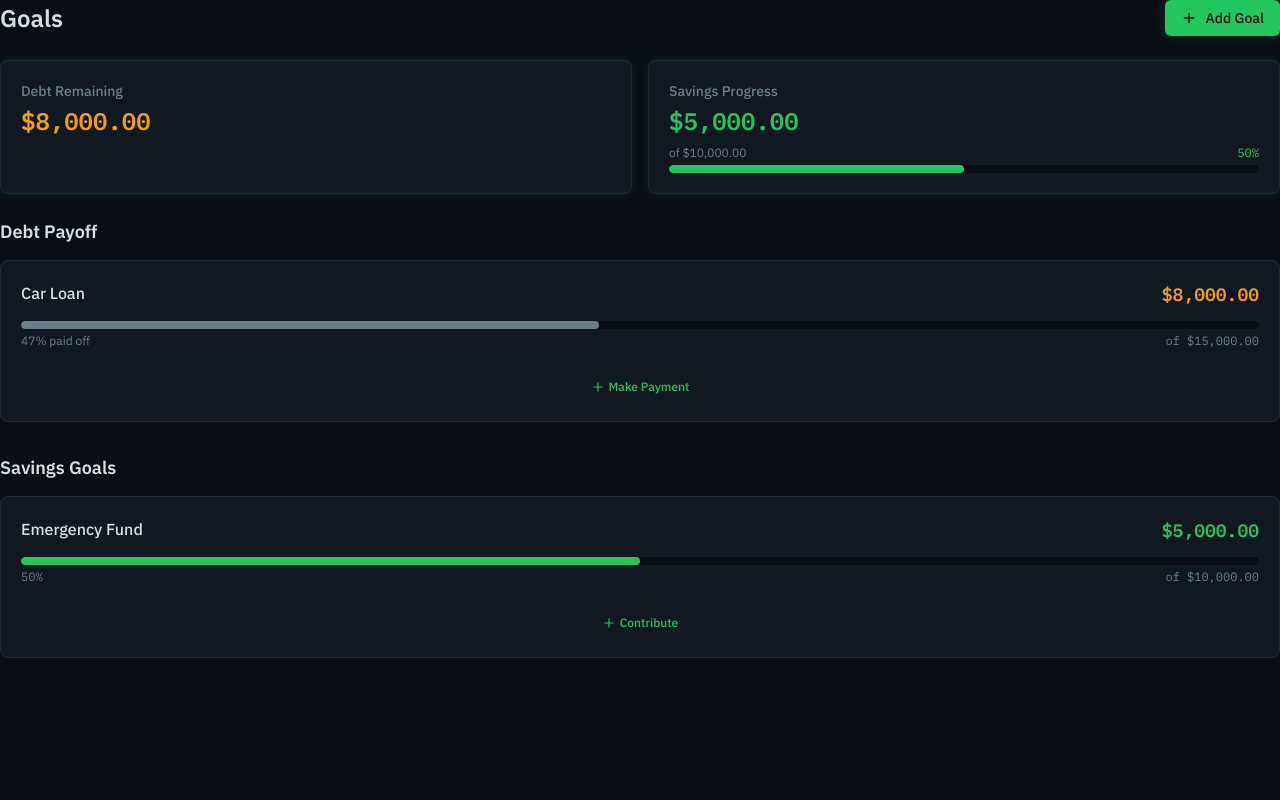
it: Goals › shows delete button in edit modal and closes on delete
This screenshot has width=1280, height=800.
Click the text "Emergency Fund": [82, 529] box top-left (21, 517), bottom-right (143, 541)
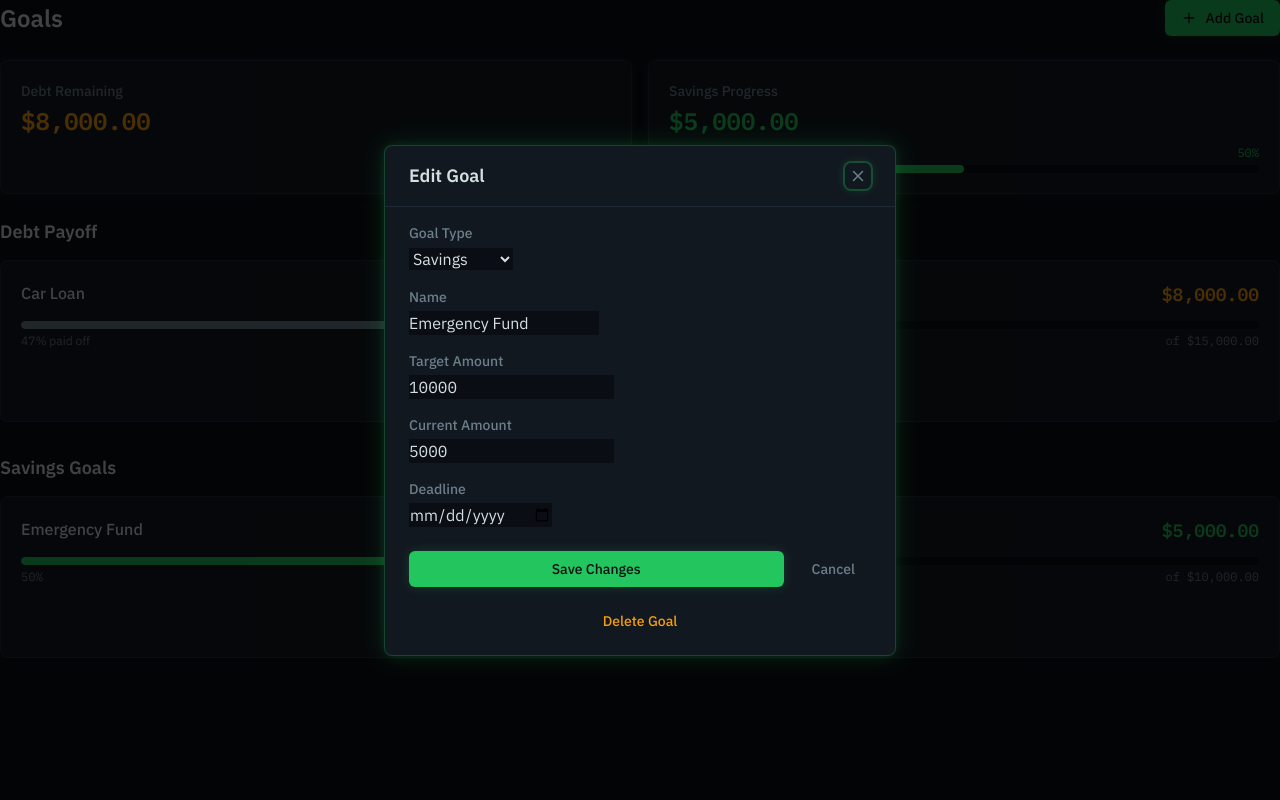
Now the button "Delete Goal" is shown
Click the button "Delete Goal": [640, 620] box top-left (409, 602), bottom-right (871, 638)
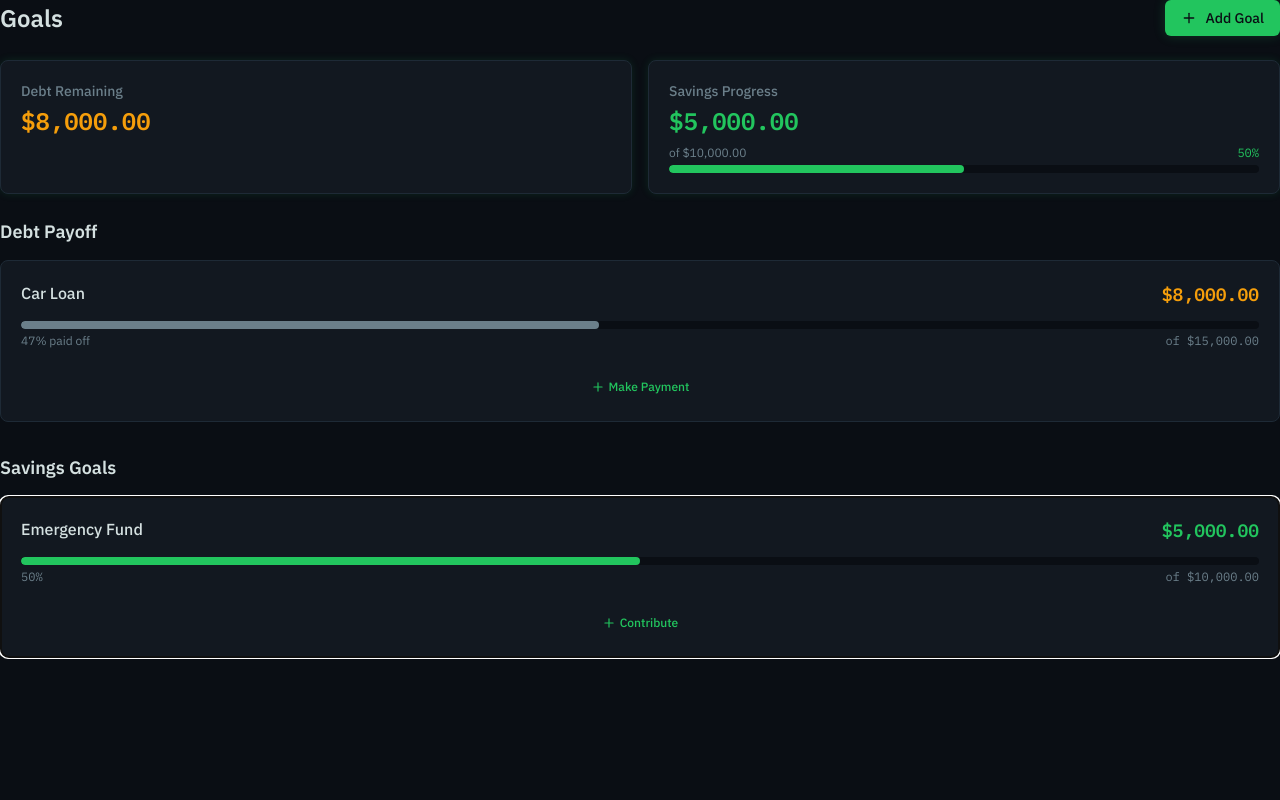
Now the dialog is gone
